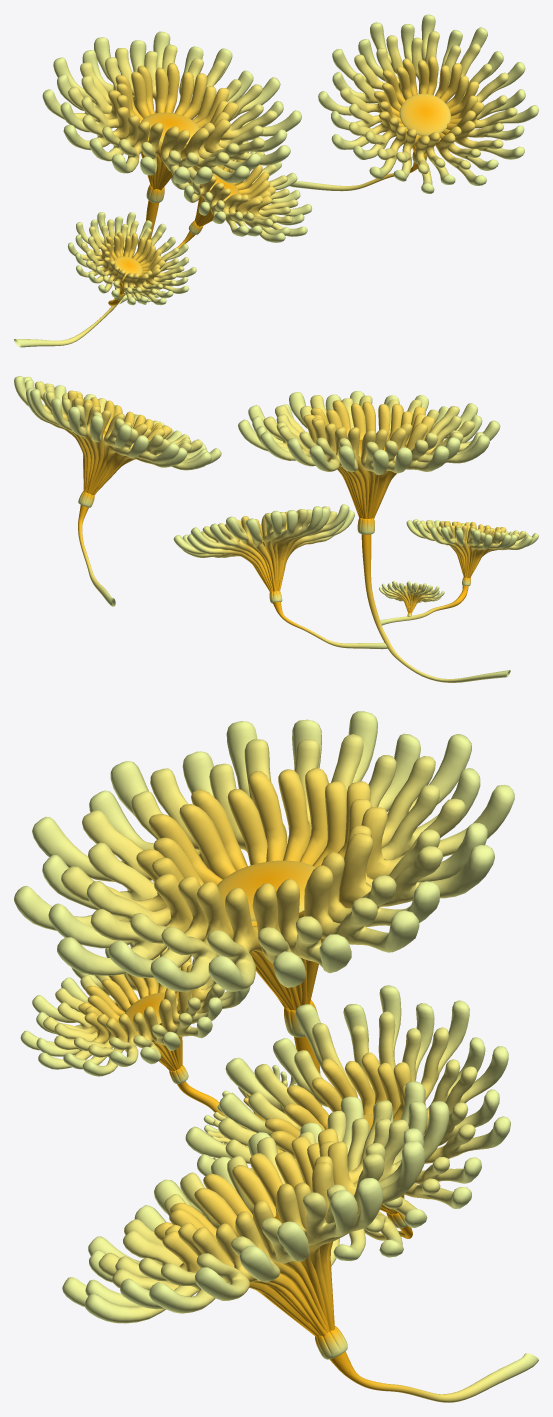
Rendered from plant_59.fbx.
3 views of the same model, one above another, from view 1: azimuth 30°, elevation 25°; view 2: azimuth 150°, elevation 25°; view 3: azimuth 270°, elevation 25° (orthographic). The views are drawn at different scales.
Parts seen in each view (by area): view 1: haizao_haicao_group36_haiKui16, ll:Object10; view 2: haizao_haicao_group36_haiKui16, ll:Object10; view 3: haizao_haicao_group36_haiKui16, ll:Object10.
Part boxes in pixels (x1,y1,x2,y2): haizao_haicao_group36_haiKui16: (14,31,311,347); ll:Object10: (289,14,538,193); haizao_haicao_group36_haiKui16: (173,391,538,682); ll:Object10: (14,376,221,606); haizao_haicao_group36_haiKui16: (14,711,514,1266); ll:Object10: (62,1081,538,1402).
Bounding box in the file's own units: 6.31 × 3.06 × 2.97.
